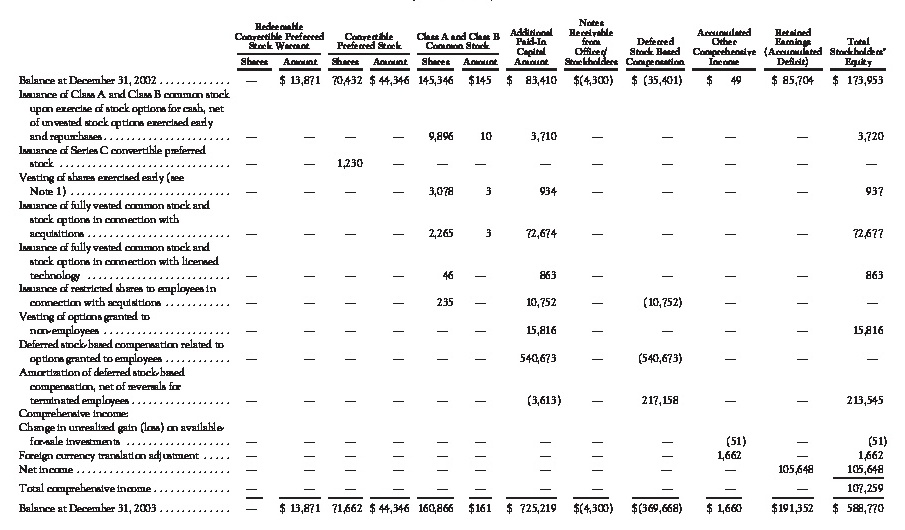table: (0, 0, 905, 530)
